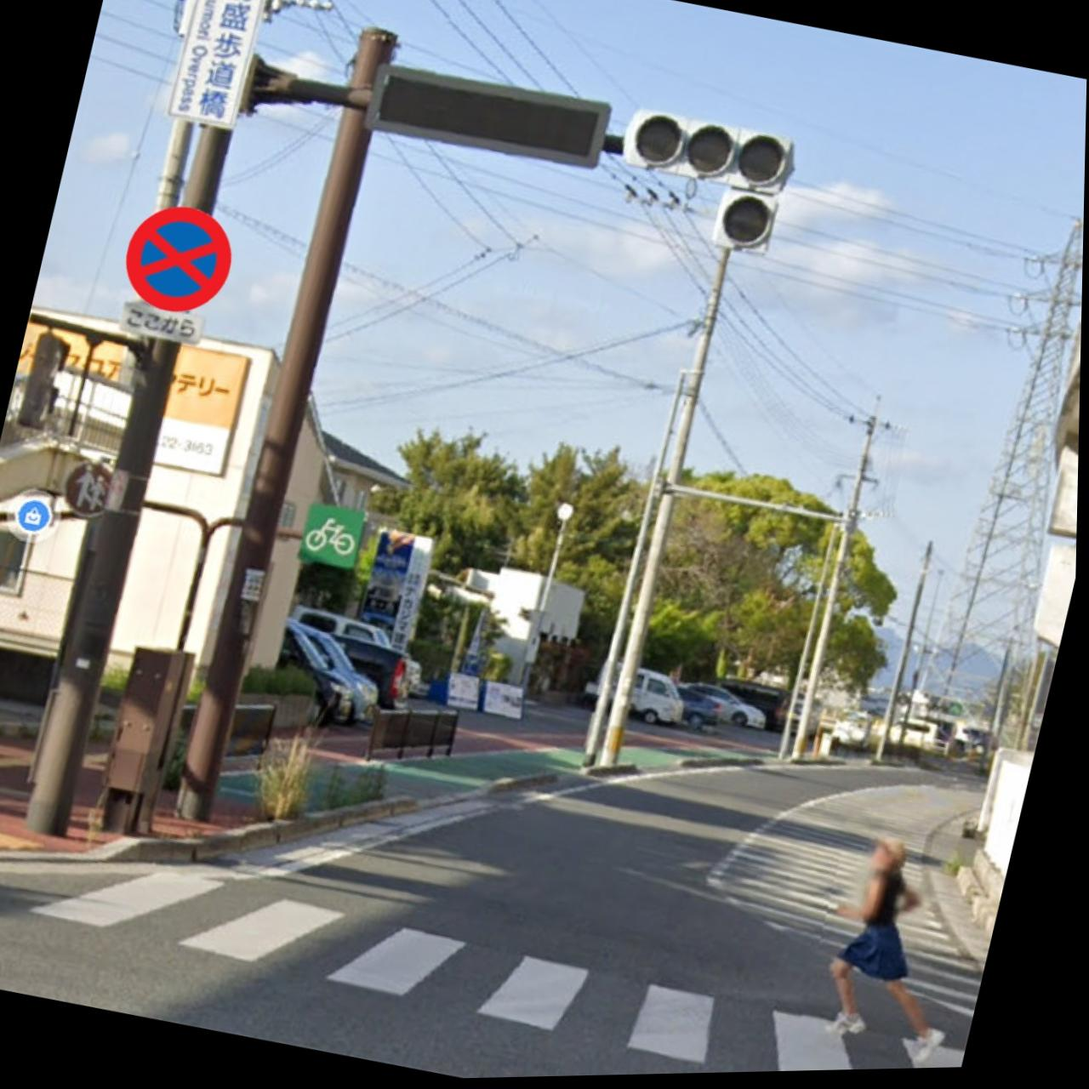stop_sign: (117, 194, 245, 324)
